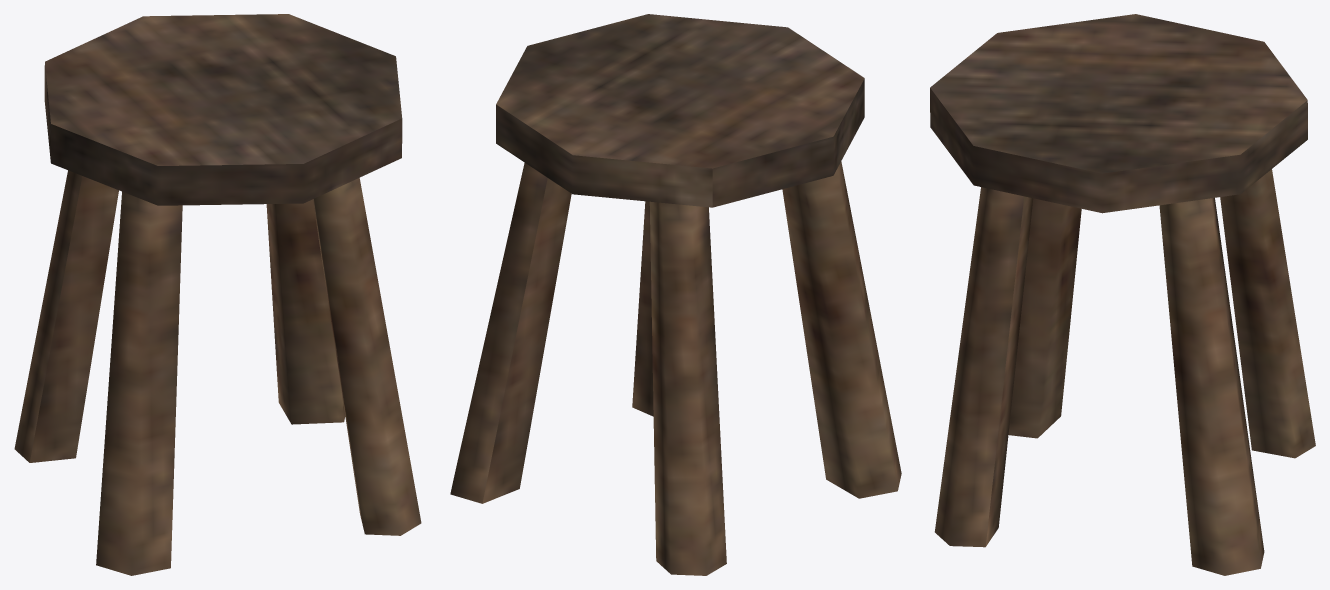
Rendered from d_yz_shouyou_yizi04_qt.FBX.
3 views of the same model, side by side, from view 1: azimuth 30°, elevation 25°; view 2: azimuth 150°, elevation 25°; view 3: azimuth 270°, elevation 25° (orthographic).
Visible parts, largest first — view 1: d_sg_shouyou_zhuozi02_qt; view 2: d_sg_shouyou_zhuozi02_qt; view 3: d_sg_shouyou_zhuozi02_qt.
Part boxes in pixels (<box>): d_sg_shouyou_zhuozi02_qt: <box>14,14,421,575</box>; d_sg_shouyou_zhuozi02_qt: <box>450,14,901,575</box>; d_sg_shouyou_zhuozi02_qt: <box>930,14,1315,575</box>.
Bounding box in the file's own units: 22.45 × 24.39 × 21.43.
